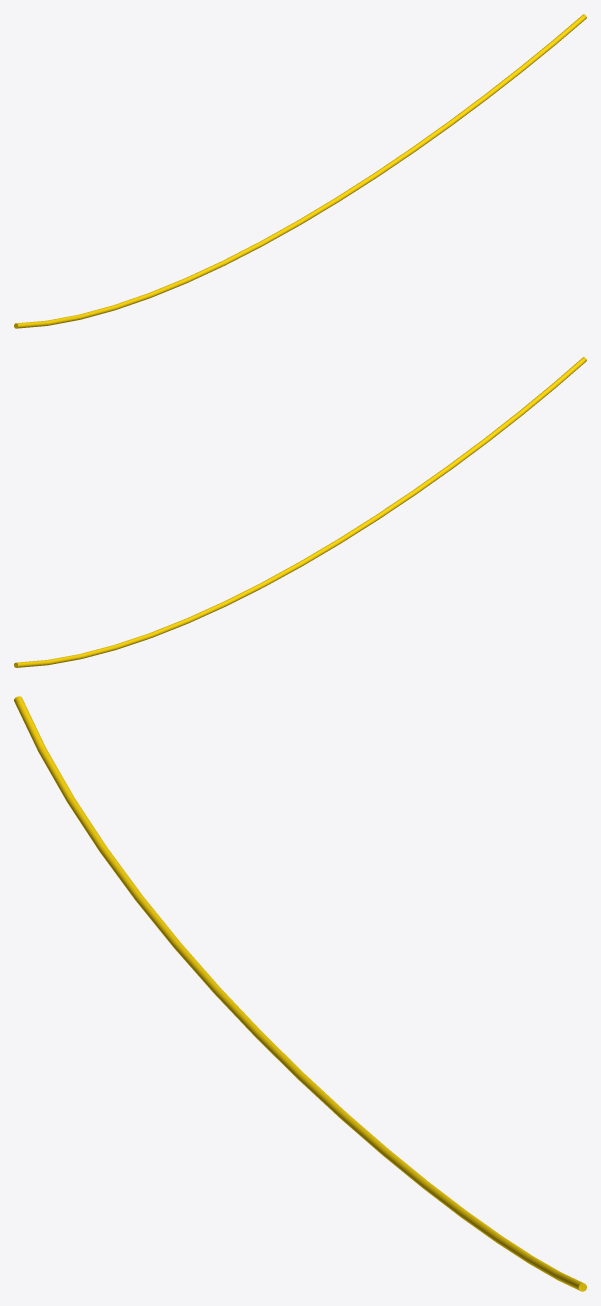
Rendered from Event_421278790_track_6.fbx.
3 renders of one model, top to bottom at view 1: azimuth 30°, elevation 25°; view 2: azimuth 210°, elevation 25°; view 3: azimuth 270°, elevation 25°, orthographic. The views are drawn at different scales.
Visible parts, largest first — view 1: Model; view 2: Model; view 3: Model.
Part boxes in pixels (<box>): Model: <box>14,14,586,328</box>; Model: <box>14,357,586,667</box>; Model: <box>14,696,586,1291</box>.
Size of the model in its own units: 6.39 by 0.4686 by 2.62.
